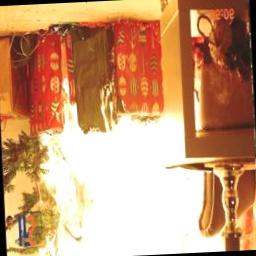fire: (27, 102, 234, 256)
